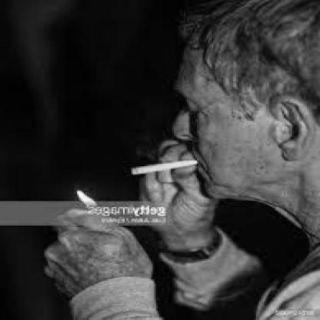Fire: (74, 184, 104, 211)
